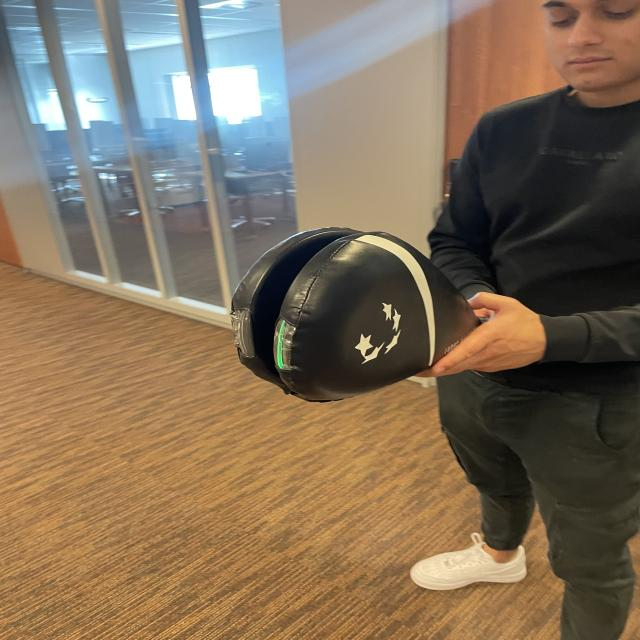paddle: (234, 224, 480, 398)
trigger: (272, 317, 293, 373)
